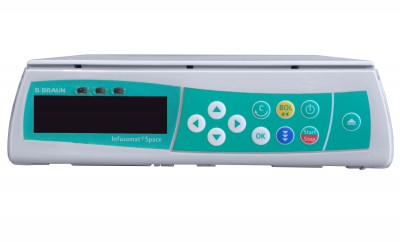BBraun Infusomat Space: (5, 52, 395, 173)
